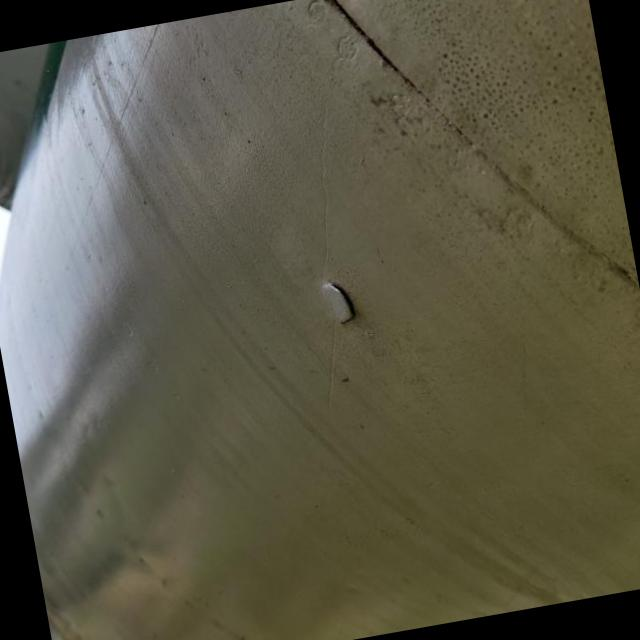Crack: (324, 280, 357, 322)
